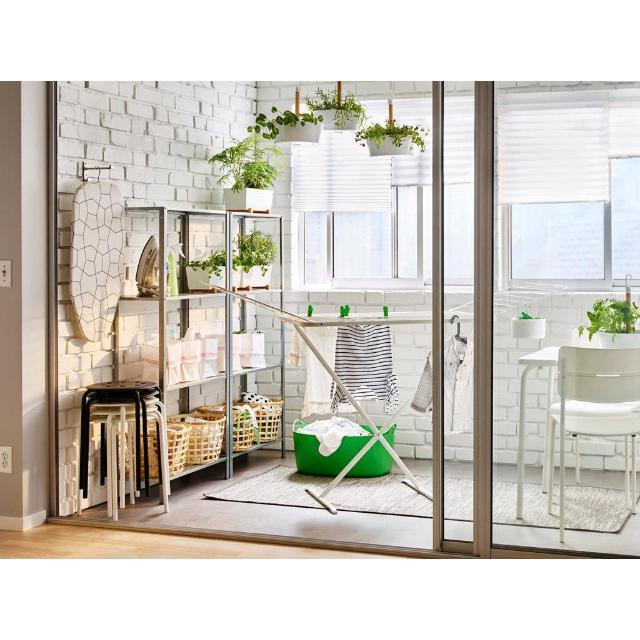chair: (548, 346, 640, 542)
curtain: (499, 91, 609, 204), (292, 131, 391, 212), (444, 96, 474, 185), (391, 132, 431, 186), (609, 90, 640, 158), (396, 97, 431, 128)
plant: (210, 135, 281, 212), (248, 106, 324, 143), (355, 118, 429, 155), (305, 87, 366, 130)
rug: (205, 465, 332, 508), (328, 474, 431, 517), (492, 481, 560, 528), (565, 485, 630, 532), (445, 477, 472, 521)
table: (516, 347, 558, 518)
